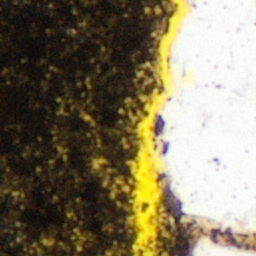cement_matrix: (0, 0, 170, 255), (157, 194, 192, 255)
cracks: (130, 0, 255, 255)
gravel_crushed_stones: (158, 0, 255, 233), (194, 238, 255, 255)
